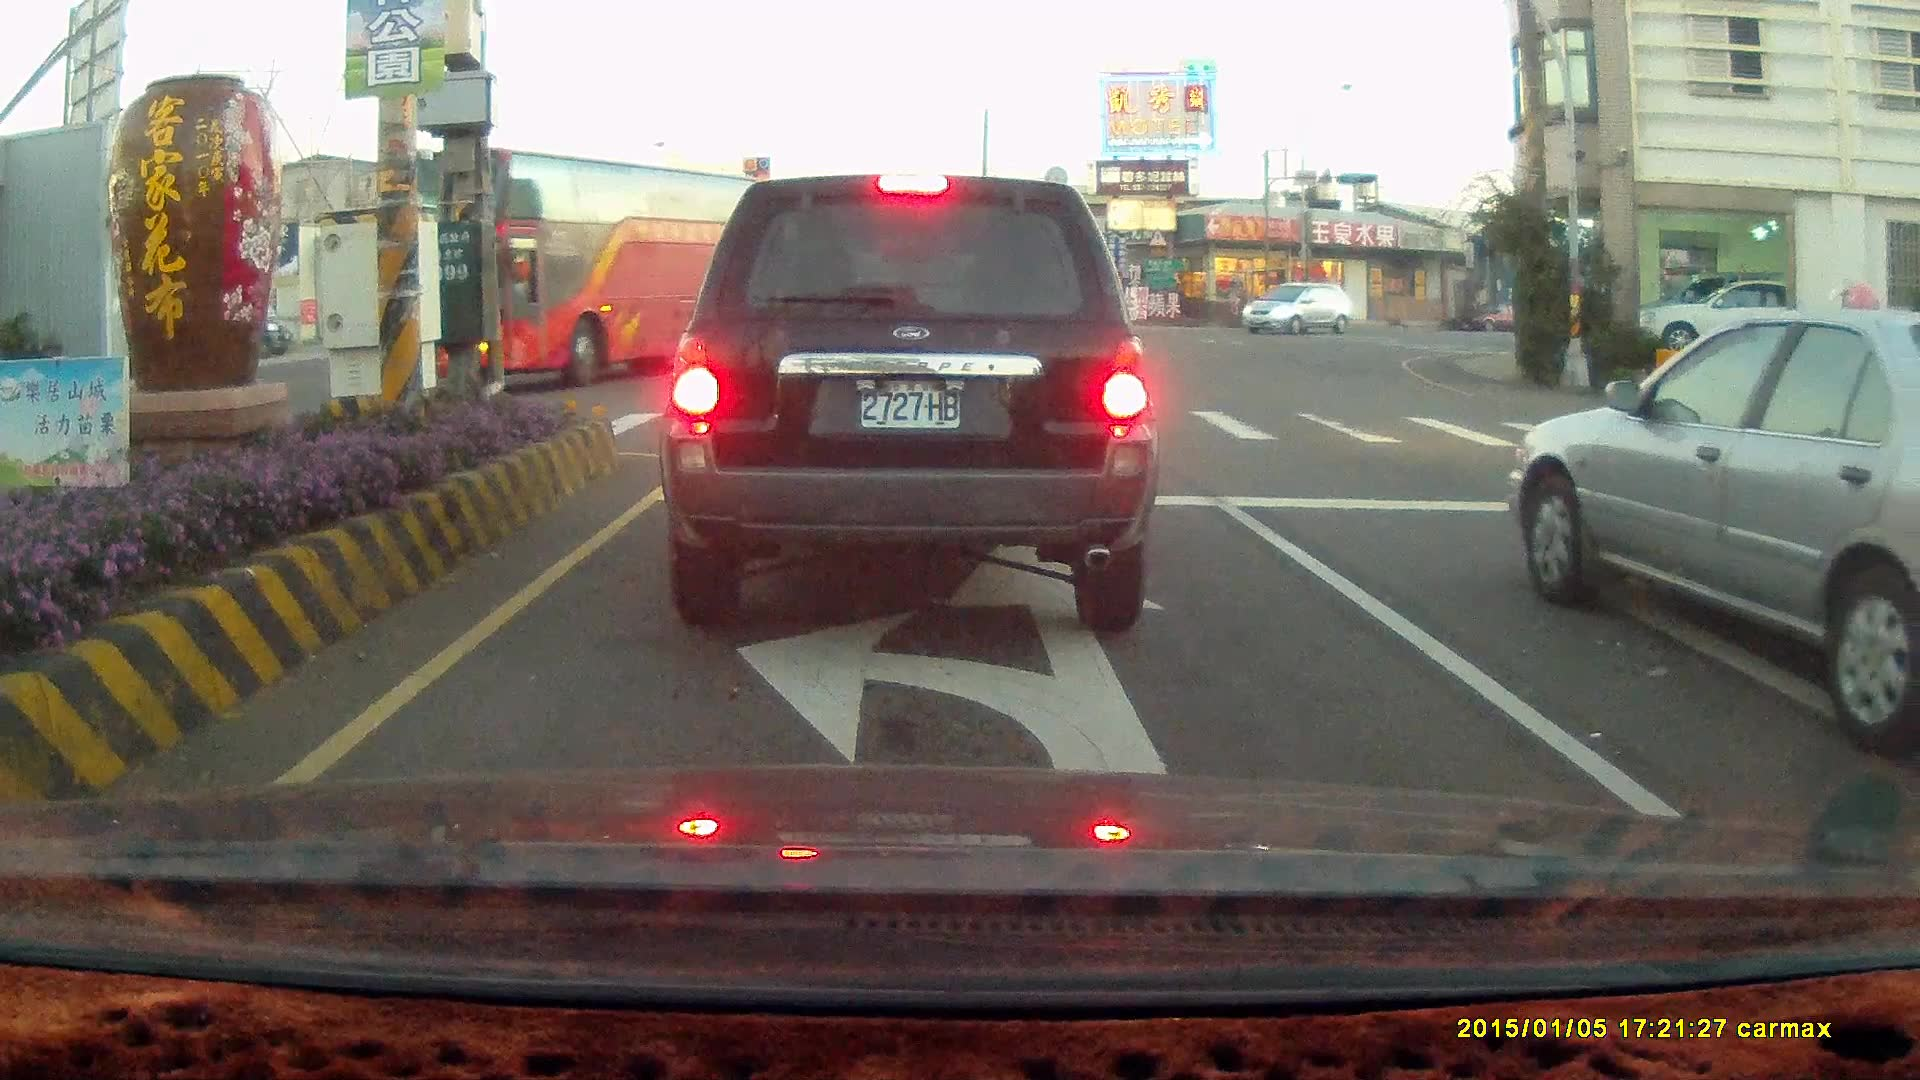vehicle: (655, 171, 1158, 634), (1502, 305, 1920, 758), (1509, 307, 1920, 702), (365, 142, 825, 400), (531, 255, 742, 345), (1631, 276, 1834, 361), (1642, 276, 1784, 356), (1896, 493, 1920, 836), (1240, 282, 1354, 340)
